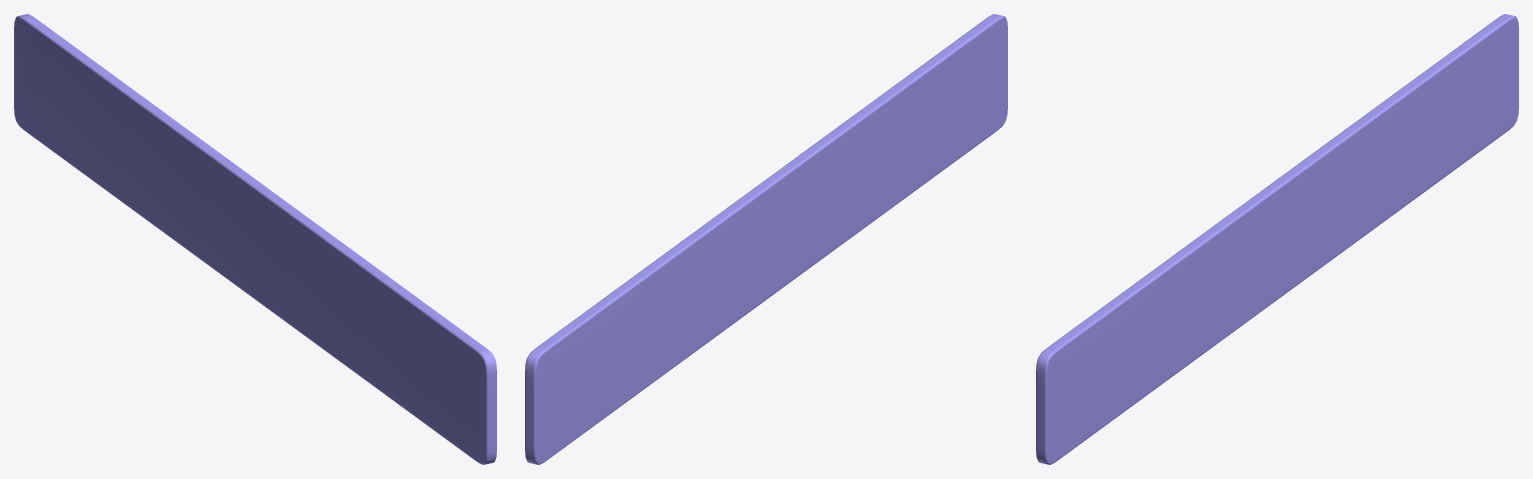
Rendered from notification.glb.
The picture shows the model from 3 angles, left to right: view 1: azimuth 30°, elevation 25°; view 2: azimuth 150°, elevation 25°; view 3: azimuth 330°, elevation 25°; orthographic projection.
Visible parts, largest first — view 1: Notification.001; view 2: Notification.001; view 3: Notification.001.
Part boxes in pixels (x1=…): Notification.001: x1=14, y1=14, x2=496, y2=464; Notification.001: x1=525, y1=14, x2=1007, y2=464; Notification.001: x1=1036, y1=14, x2=1518, y2=464.
Bounding box in the file's own units: 0.00968 × 0.0927 × 0.7098.
